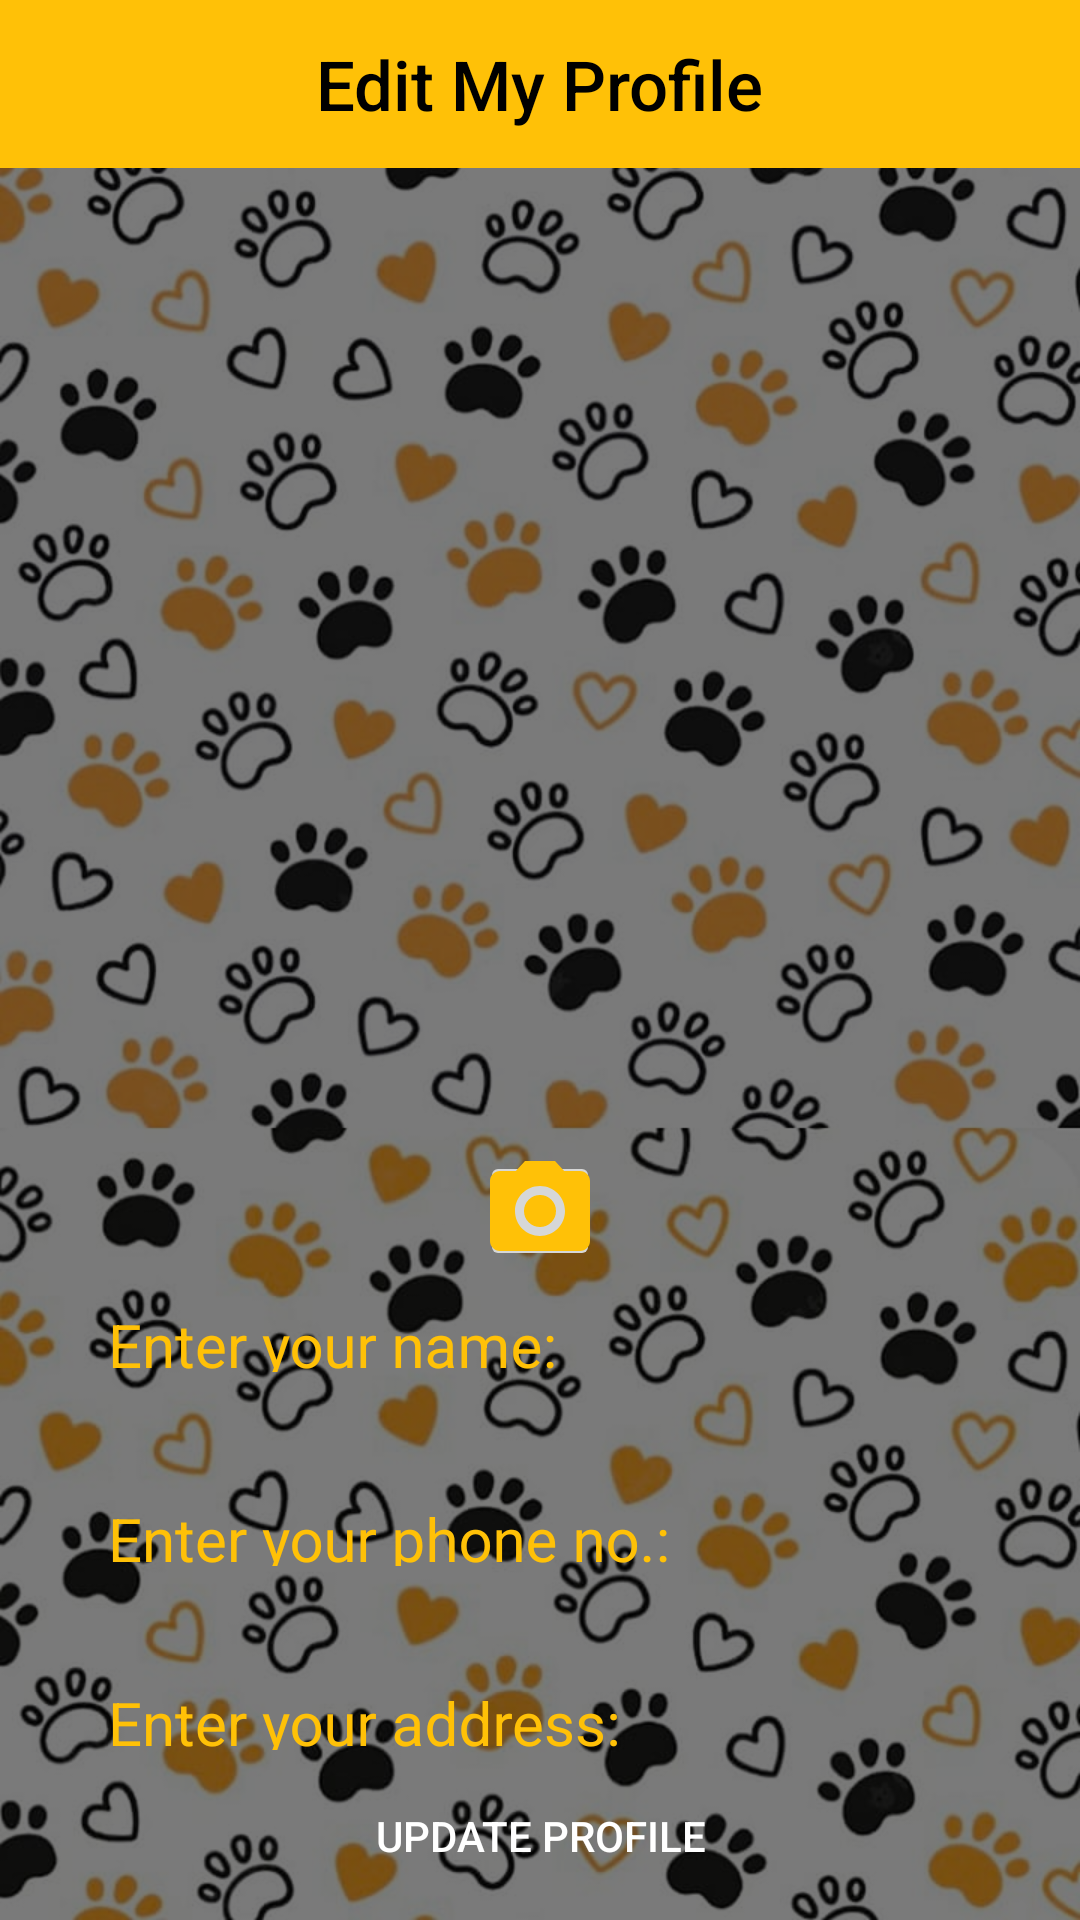

Point at icon controls on the screen. Image size 1080 × 1920, points as (x,y).
camera: (540,1211)
